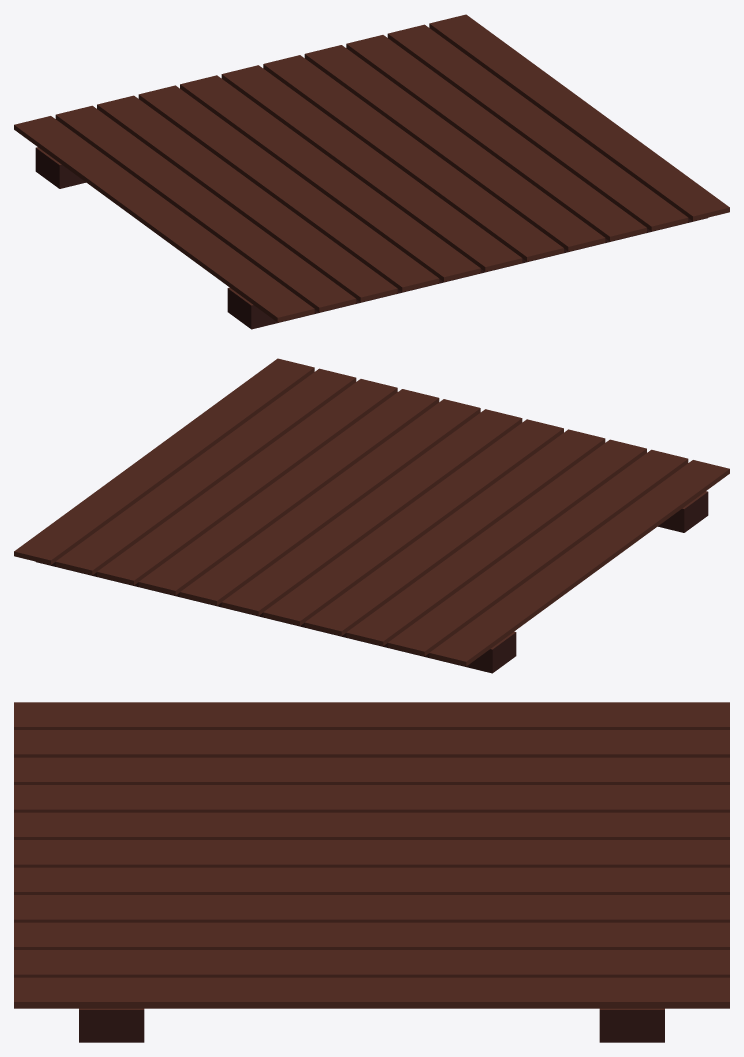
Rendered from palette.obj.
3 renders of one model, top to bottom at view 1: azimuth 30°, elevation 25°; view 2: azimuth 150°, elevation 25°; view 3: azimuth 270°, elevation 25°, orthographic. The views are drawn at different scales.
Visible parts, largest first — view 1: Plane; view 2: Plane; view 3: Plane.
Part boxes in pixels (x1,y1,x2,y2): Plane: (14, 14, 729, 329); Plane: (14, 358, 729, 673); Plane: (14, 702, 729, 1042).
Size of the model in its own units: 2 by 0.12 by 2.
